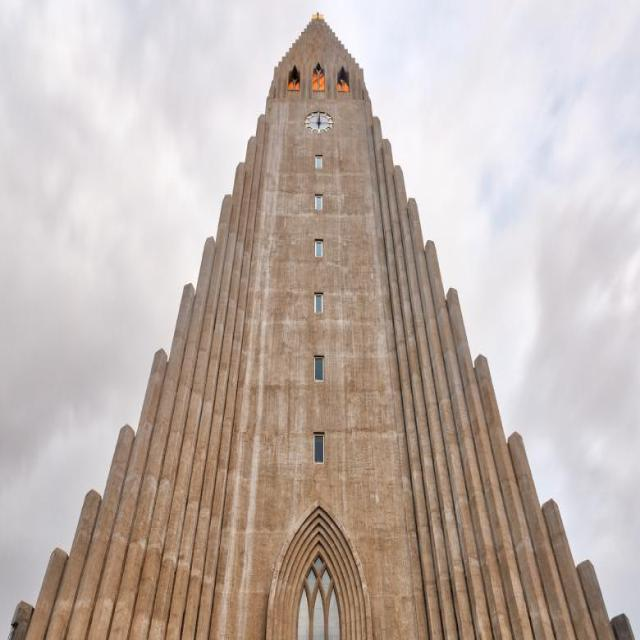Igneous: (1, 1, 636, 636)
